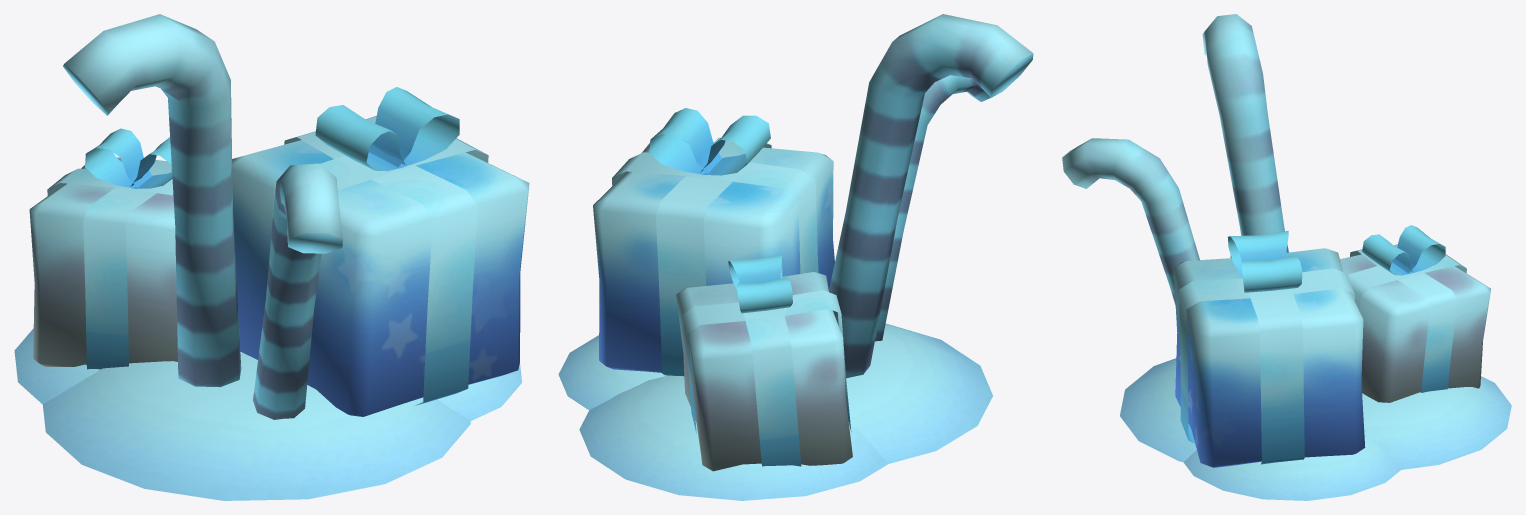
The model's file is FloorDecoXmas-003_02_09_9685.fbx.
3 views of the same model, side by side, from view 1: azimuth 30°, elevation 25°; view 2: azimuth 150°, elevation 25°; view 3: azimuth 270°, elevation 25° (orthographic). The views are drawn at different scales.
Parts seen in each view (by area): view 1: xmas_deco_02; view 2: xmas_deco_02; view 3: xmas_deco_02.
Part boxes in pixels (x1,y1,x2,y2): xmas_deco_02: (14,14,529,500); xmas_deco_02: (558,14,1033,500); xmas_deco_02: (1062,14,1511,500).
Bounding box in the file's own units: 2.01 × 1.79 × 2.22.
